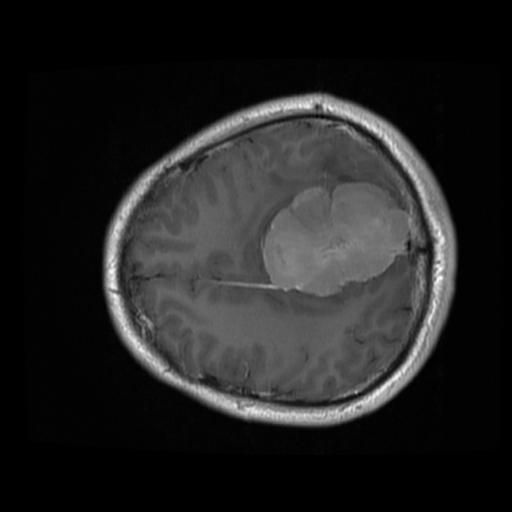meningioma: (261, 182, 407, 298)
